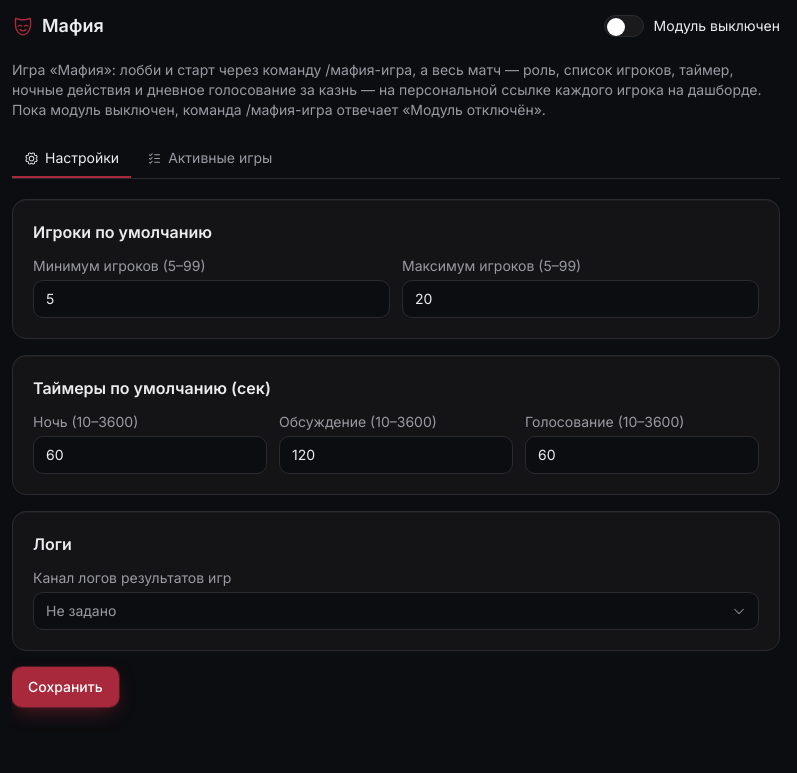
MafiaPage › toggles enabled and saves settings
Click the switch named "Модуль выключен". click: click(624, 26)
box: [604,15,644,37]
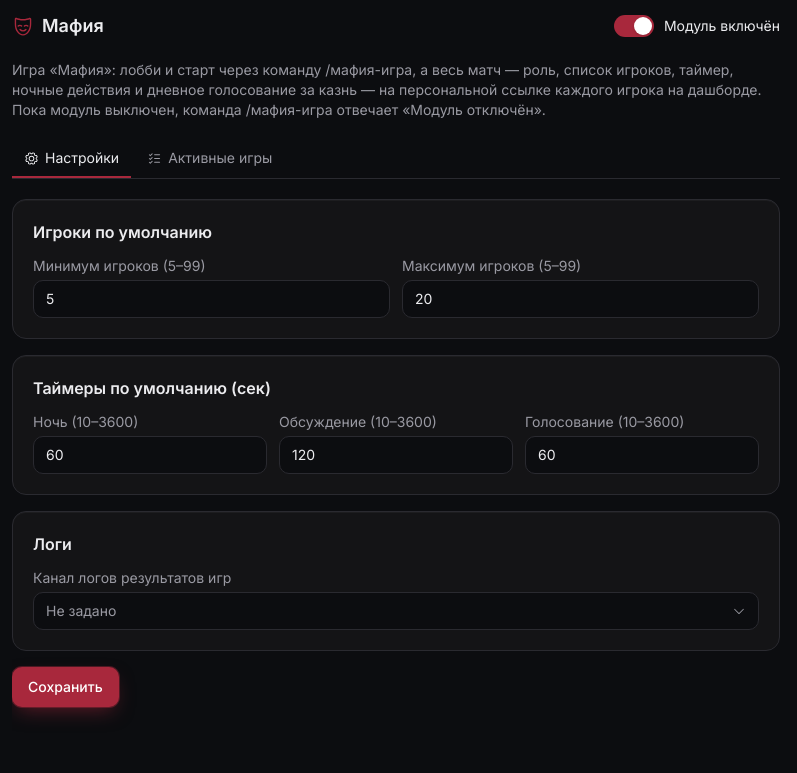
Click the button "Сохранить". click: click(65, 687)
box: [12,667,119,707]
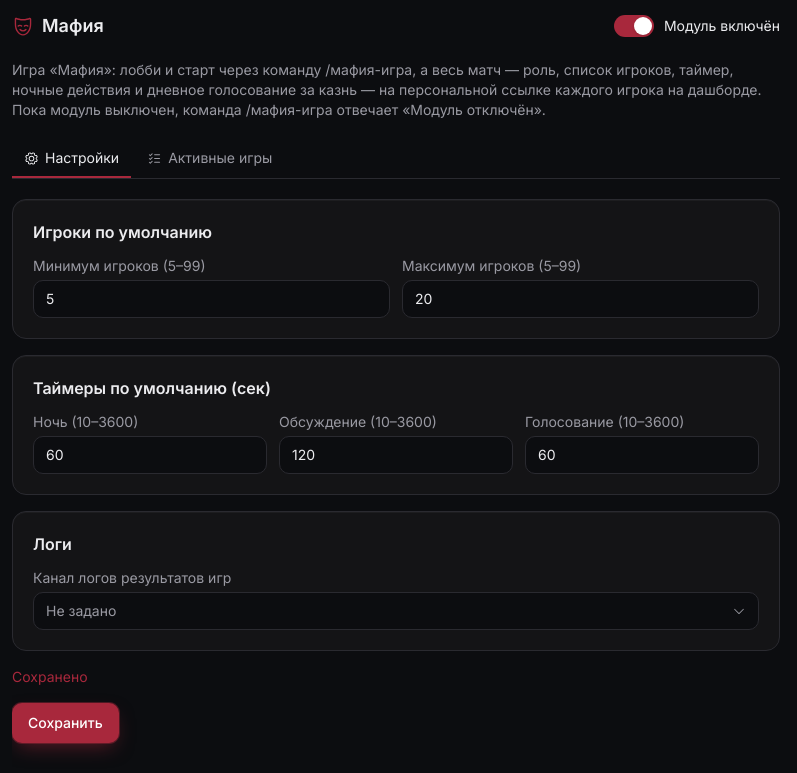
Now the text "Сохранено" is shown, box [12,668,88,685]
